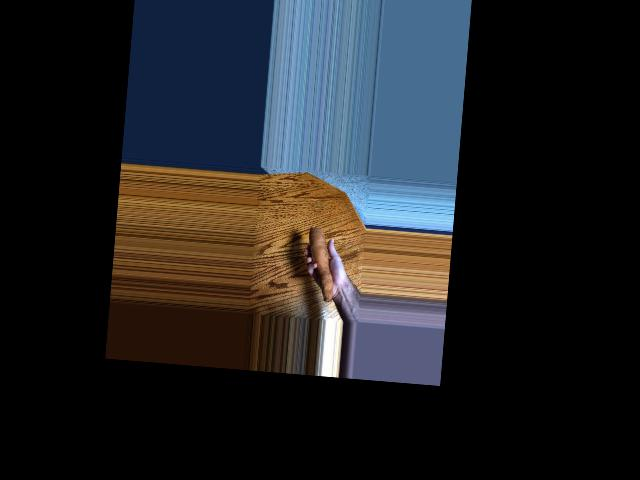sweet_potato: (300, 225, 338, 310)
